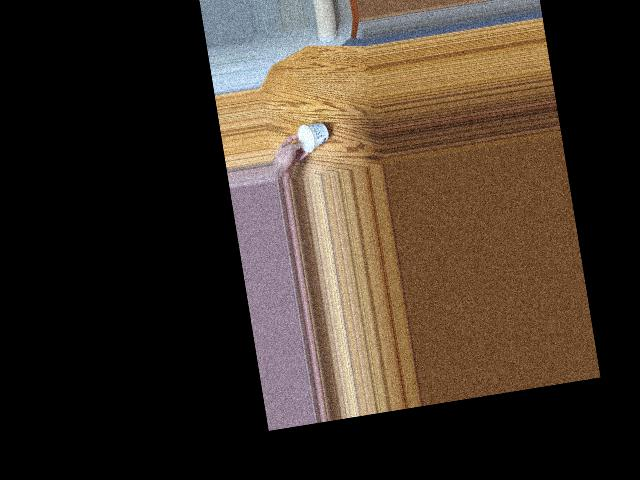cotage: (294, 119, 329, 154)
